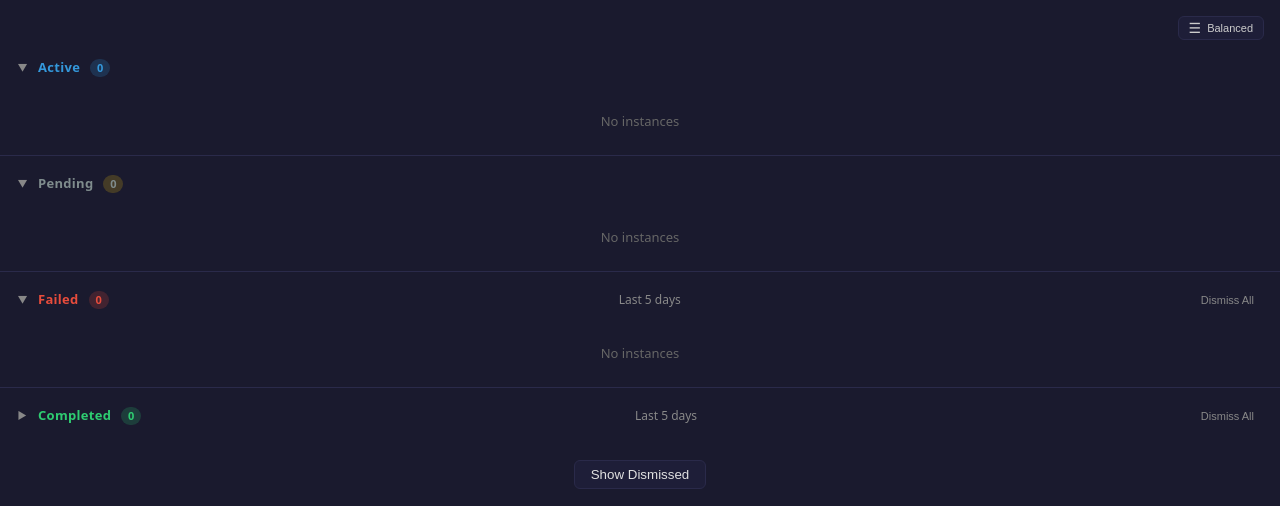
Test: QueueView show/hide dismissed toggle › omits includeDismissed after toggling back to Hide Dismissed
This screenshot has width=1280, height=506.
Note: Show dismissed.
Step 1. Click the button "Show Dismissed" → (640, 474), box left=574, top=460, right=706, bottom=488
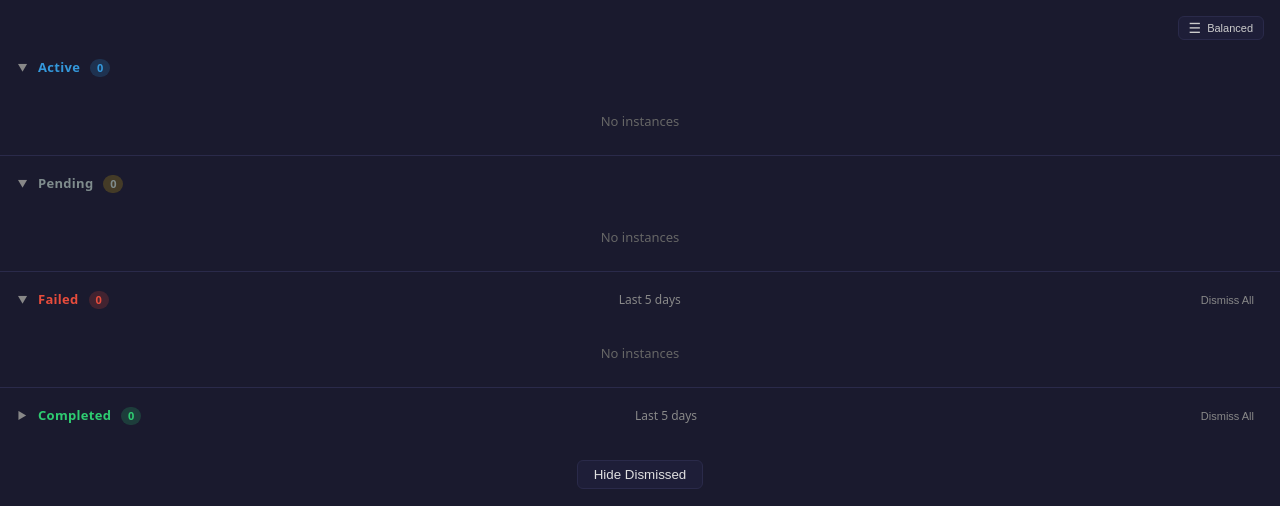
Result: the button "Hide Dismissed" is shown
Step 2. Click the button "Hide Dismissed" → (640, 474), box left=577, top=460, right=703, bottom=488
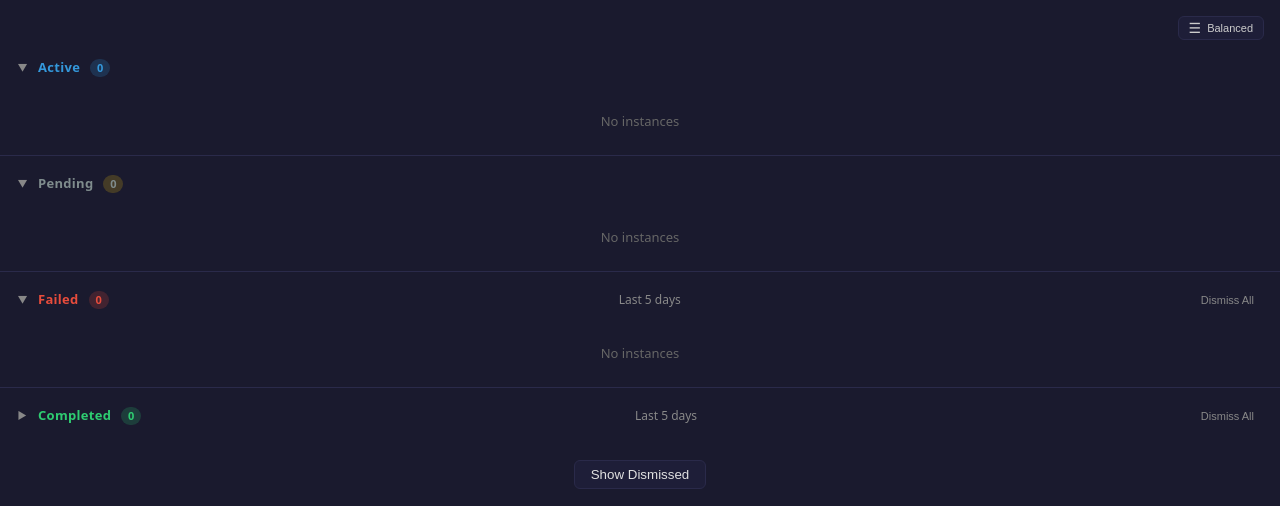
Result: the button "Show Dismissed" is shown at left=574, top=460, right=706, bottom=488
